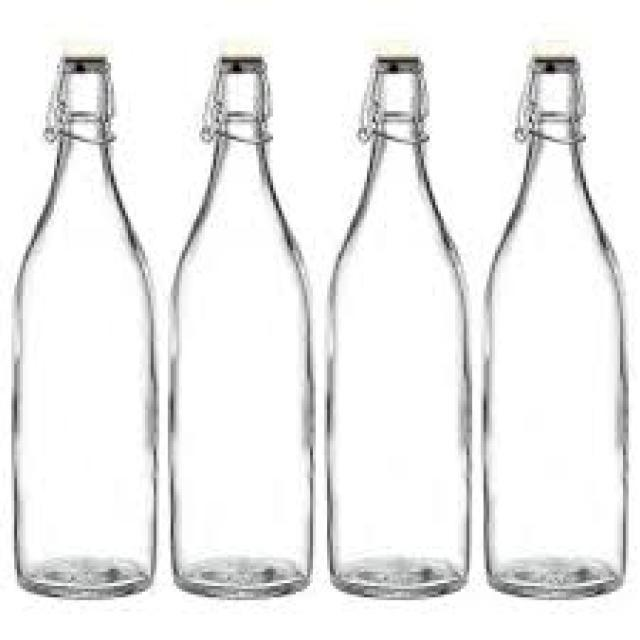Glass: (170, 52, 314, 600), (13, 57, 158, 598), (326, 54, 468, 597), (486, 57, 626, 597)
